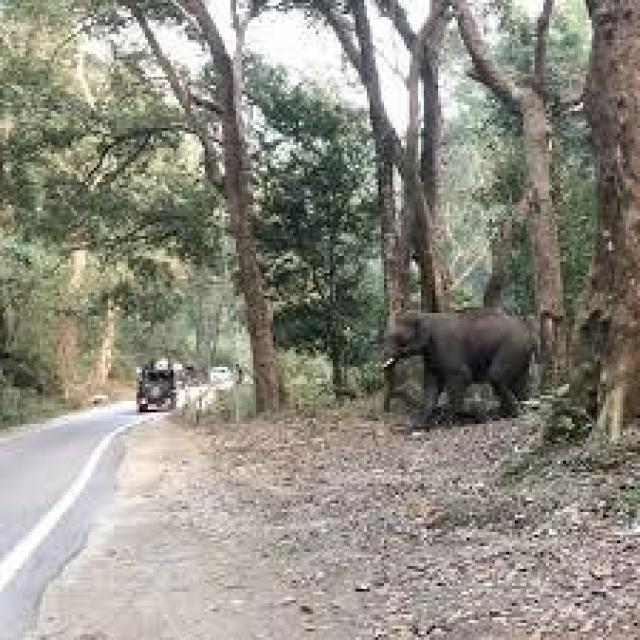Elephant: (364, 296, 542, 432)
